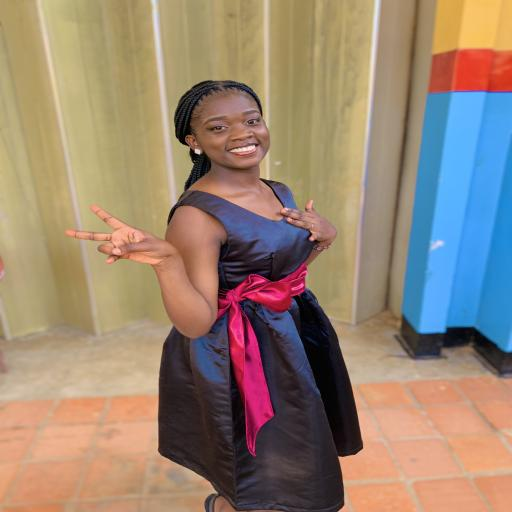LAURENE: (172, 84, 286, 177)
